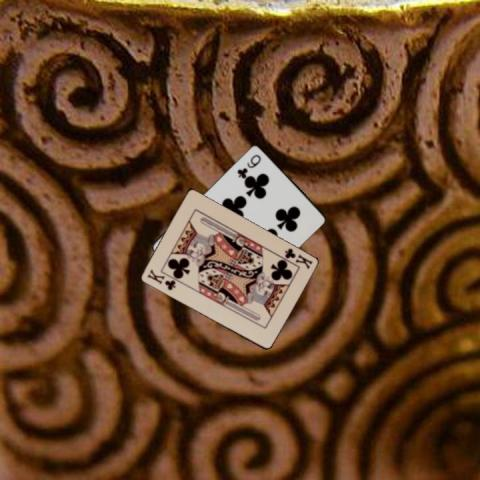9c: (234, 151, 263, 179)
Kc: (282, 245, 314, 270), (144, 267, 177, 291)
